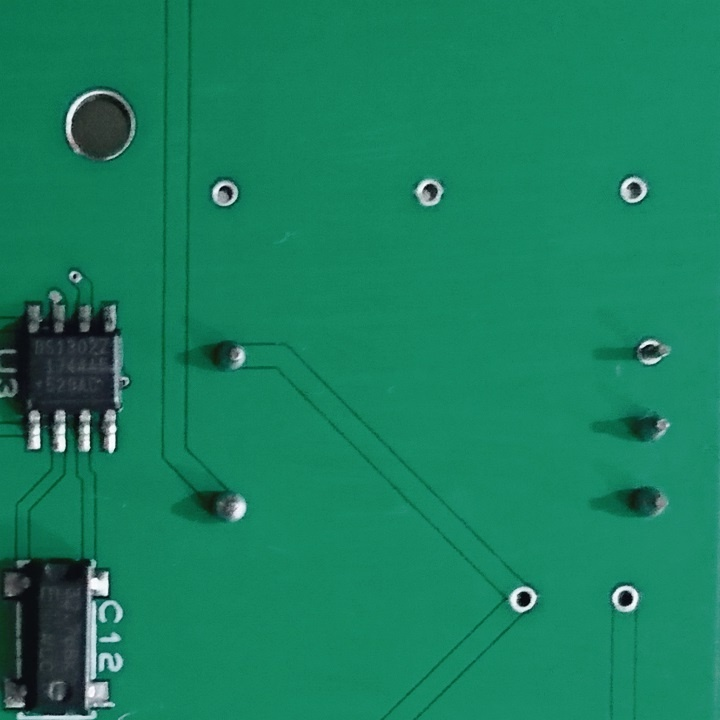F: (606, 579, 644, 618), (507, 583, 546, 620), (632, 335, 673, 367), (411, 174, 449, 208), (615, 172, 652, 206), (205, 178, 243, 209)
